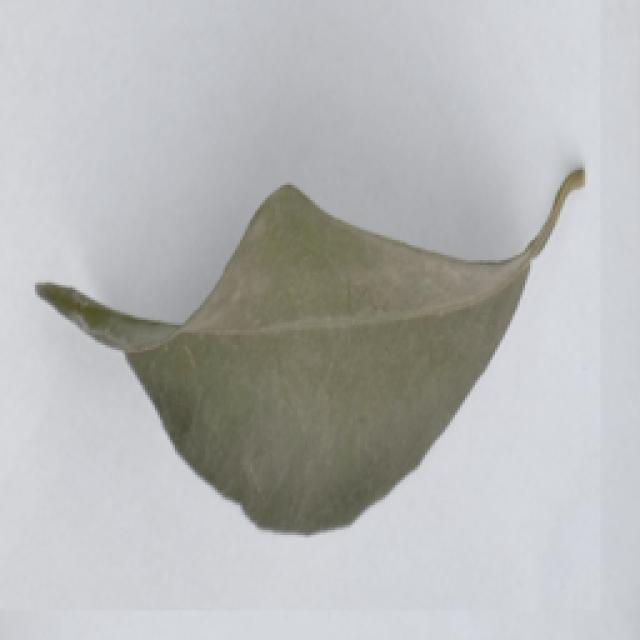healthy: (32, 161, 591, 552)
